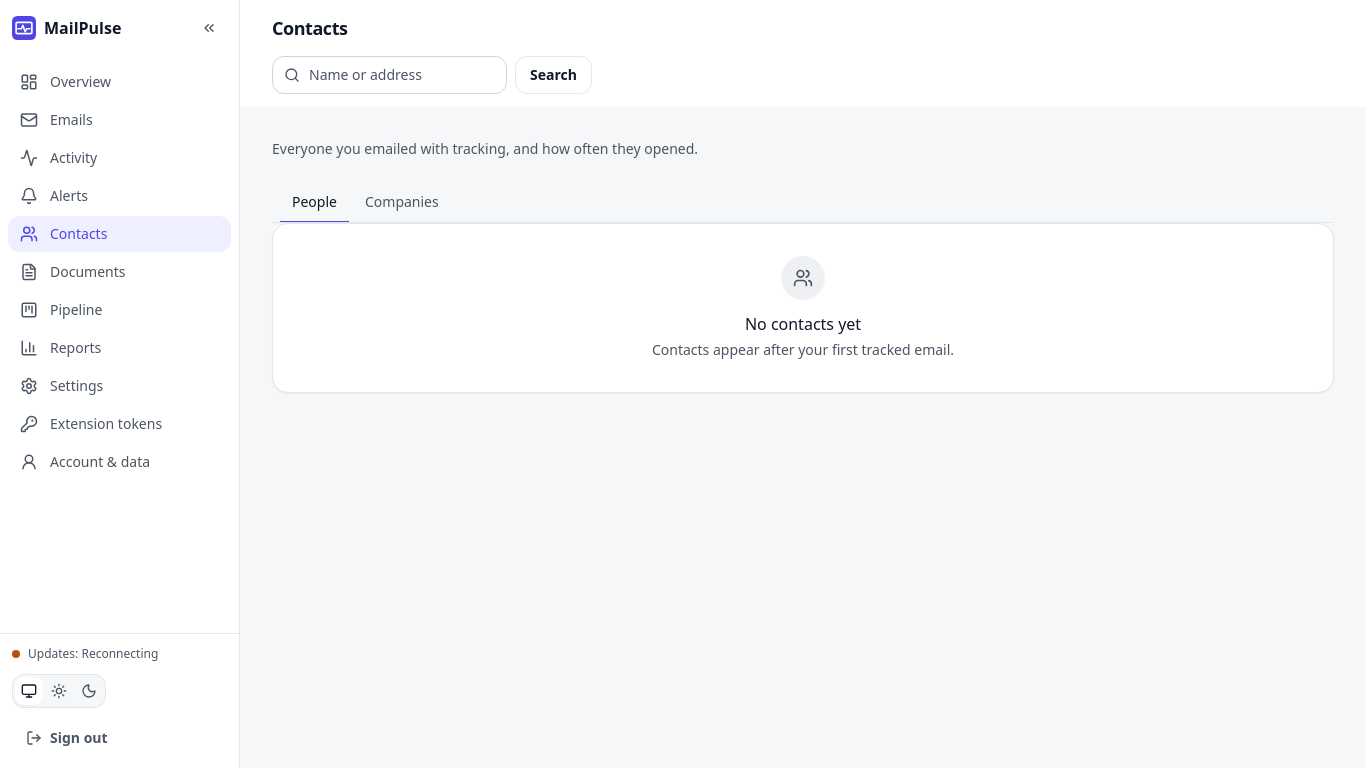
Test: Companies tab › lists companies by emails, shows personal addresses and filters by search
The image size is (1366, 768).
Click the tab "Companies" at (402, 203), box [353, 183, 451, 223]
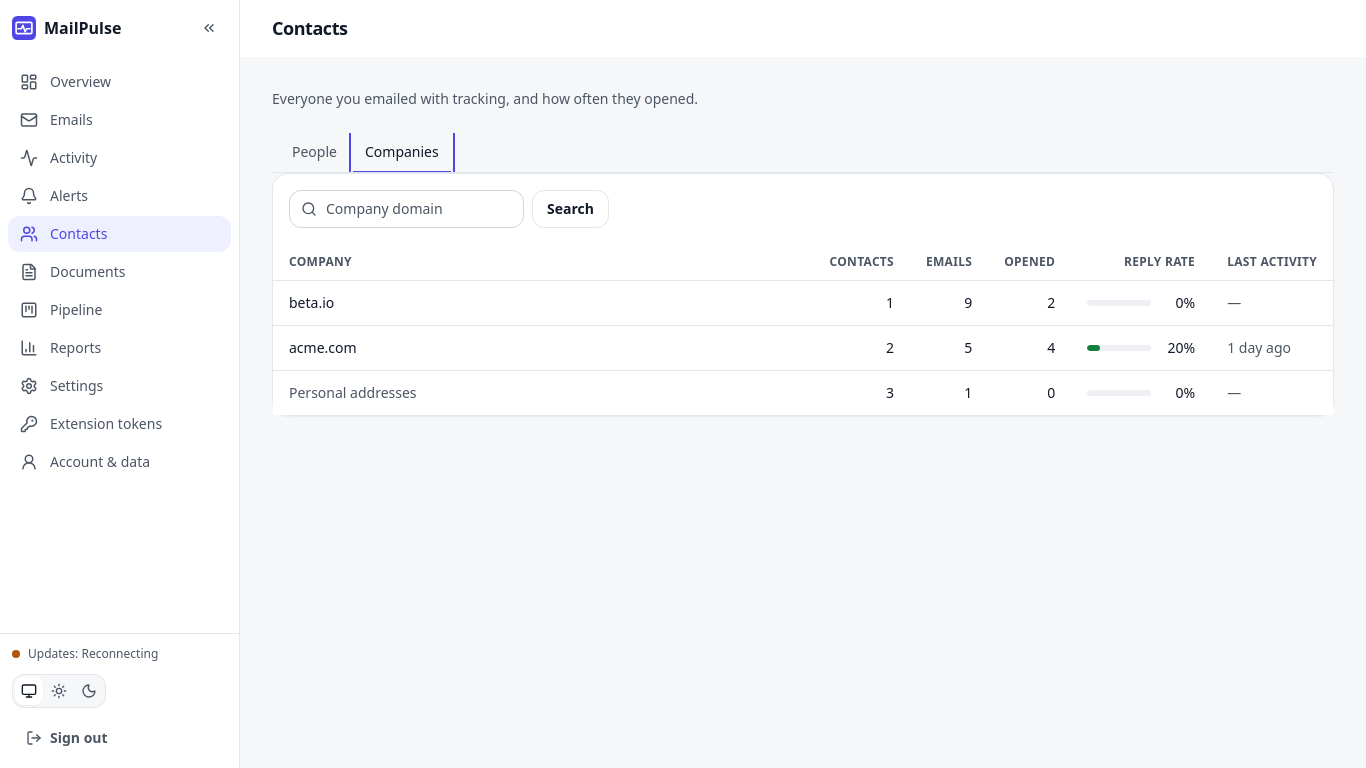
expect the text "20%" is shown: met, box [1168, 338, 1195, 357]
Type "acme" into the search field named "Search companies" at (407, 209), box [289, 190, 524, 228]
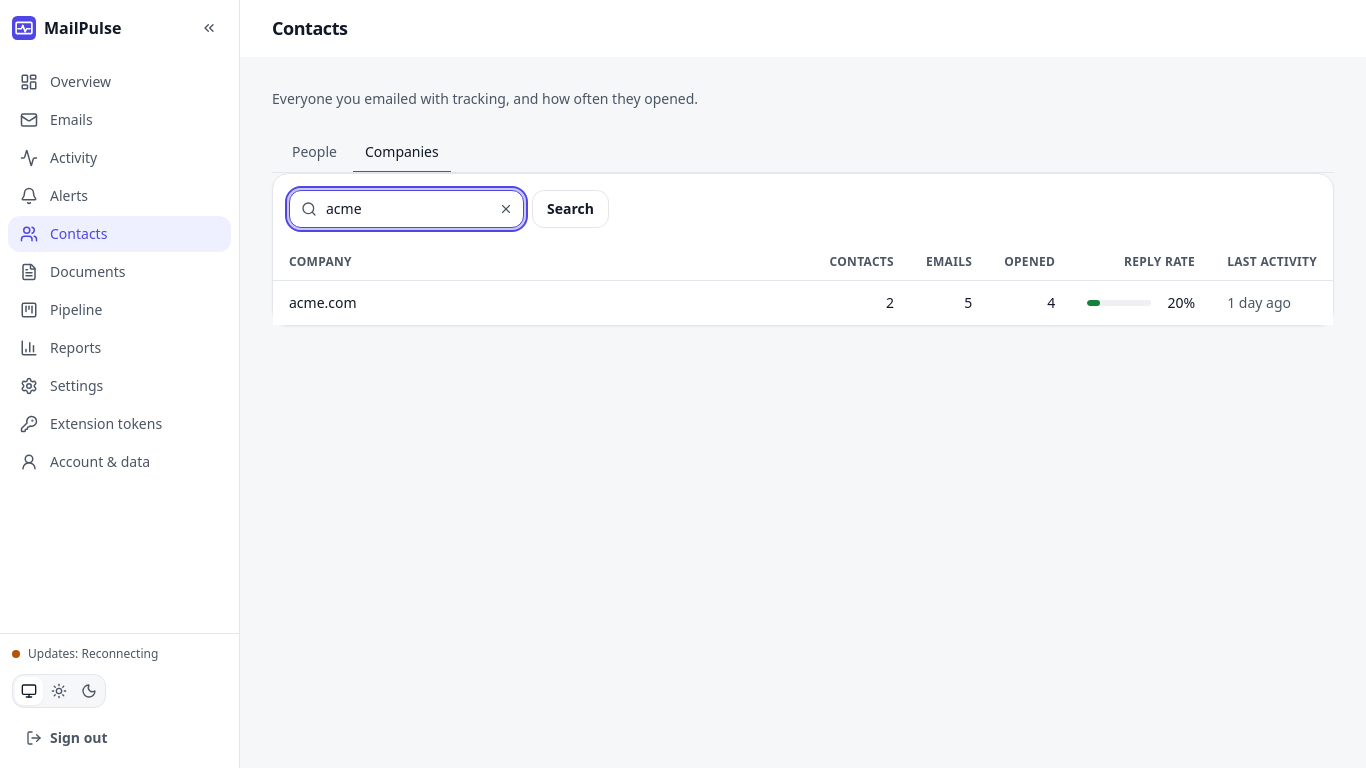
expect the number of rows is 2: met, box [273, 244, 1333, 281]; [273, 281, 1333, 325]
Click the tab "People" at (314, 153), box [280, 133, 349, 173]
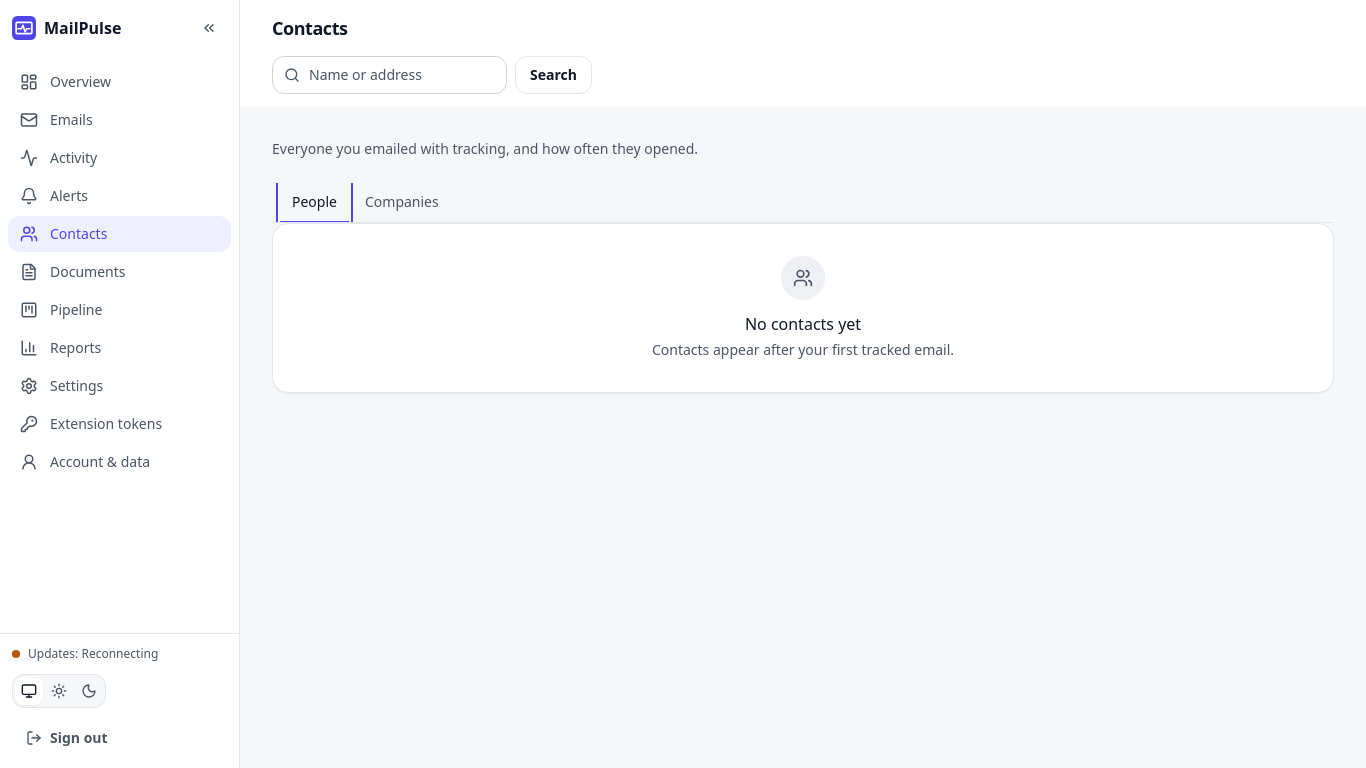
expect the search field named "Search contacts" is shown: met, box [272, 56, 507, 94]
